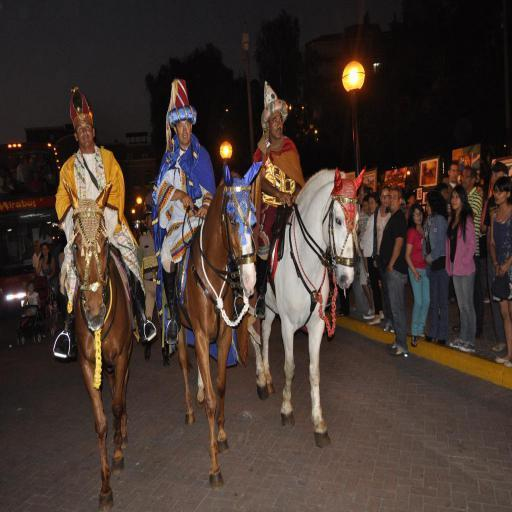horse: (256, 158, 368, 448), (174, 156, 264, 488), (62, 174, 134, 510)
